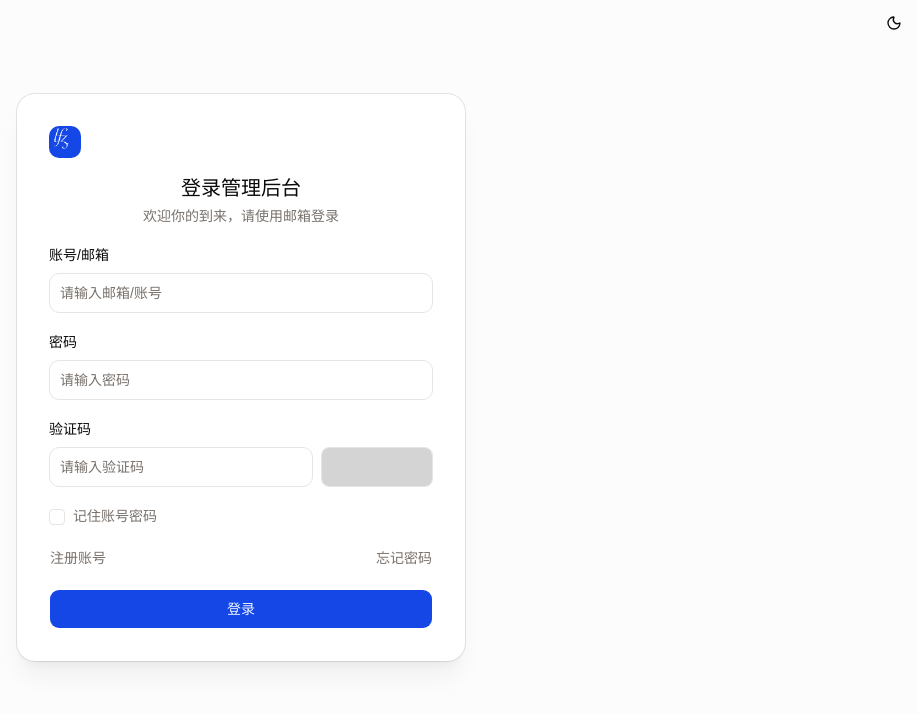
LoginFeature › switches to password recovery without navigating
The image size is (918, 714).
Click the button "忘记密码" at coordinates (404, 558), box [375,546,433,568]
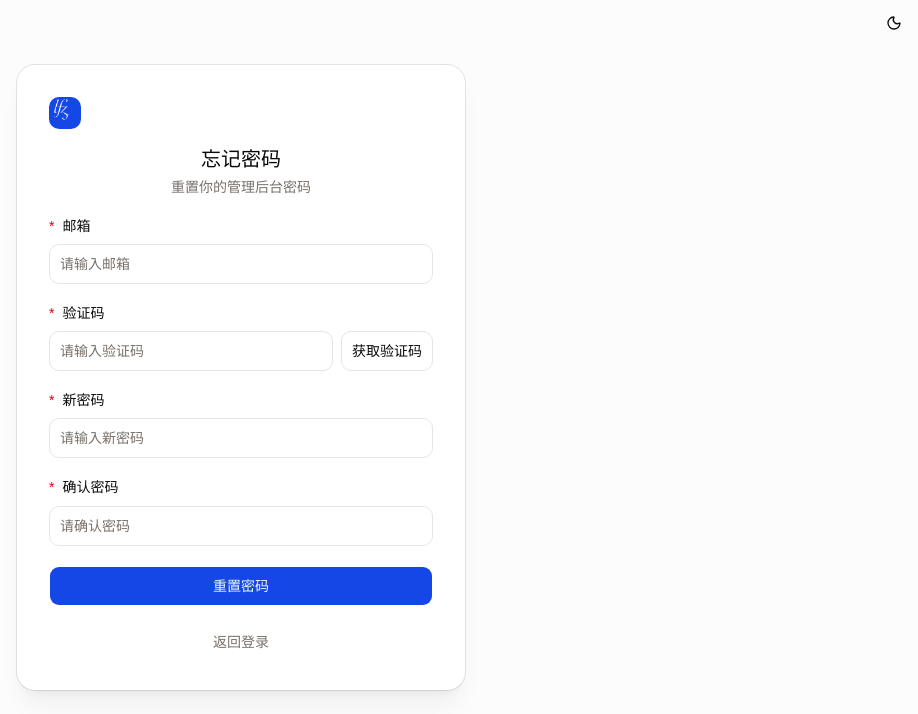
Check: the text "忘记密码" is shown, box [201,148,281,170]
Check: the password field labelled "* 新密码" is shown, box [49,418,433,458]
